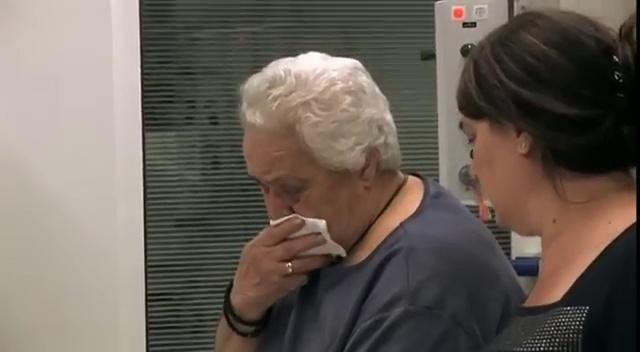others: (215, 39, 540, 352), (449, 8, 633, 352)
